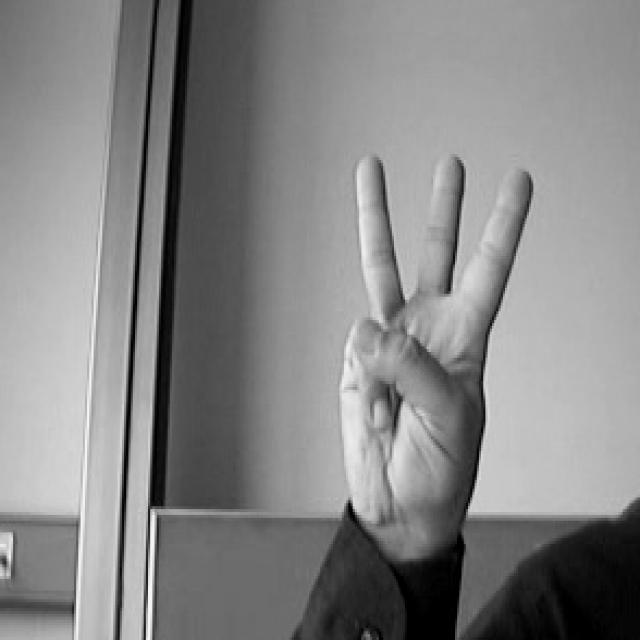W: (259, 132, 565, 539)
